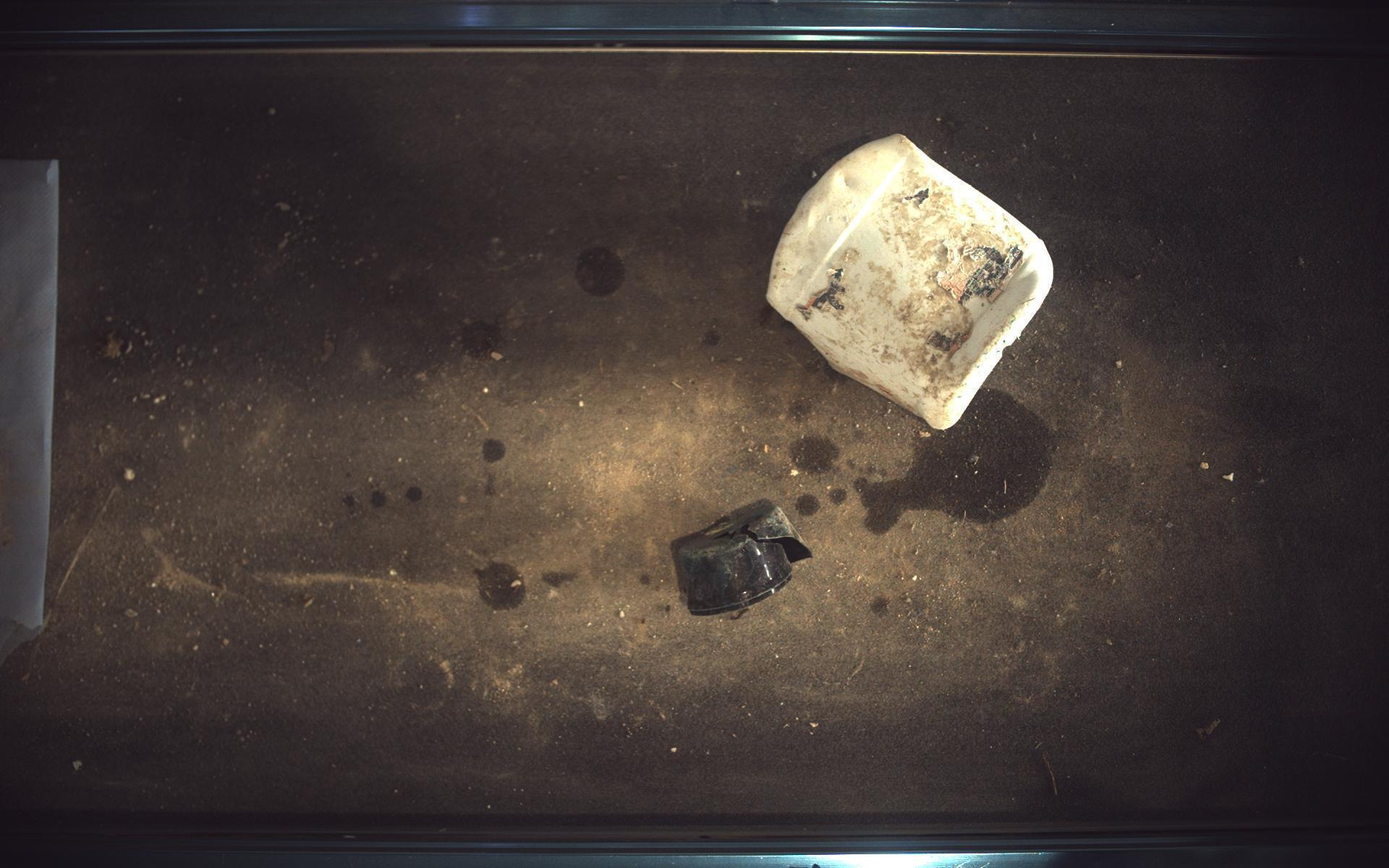general_w: (671, 500, 813, 616)
plastic: (768, 133, 1055, 430)
